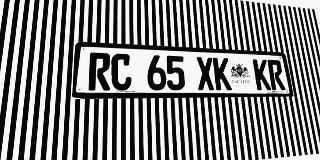5: (166, 55, 186, 90)
6: (147, 55, 167, 90)
C: (111, 53, 132, 90)
K: (213, 57, 232, 90), (253, 59, 271, 90)
R: (88, 52, 111, 90), (267, 60, 286, 90)
X: (196, 57, 215, 90)
